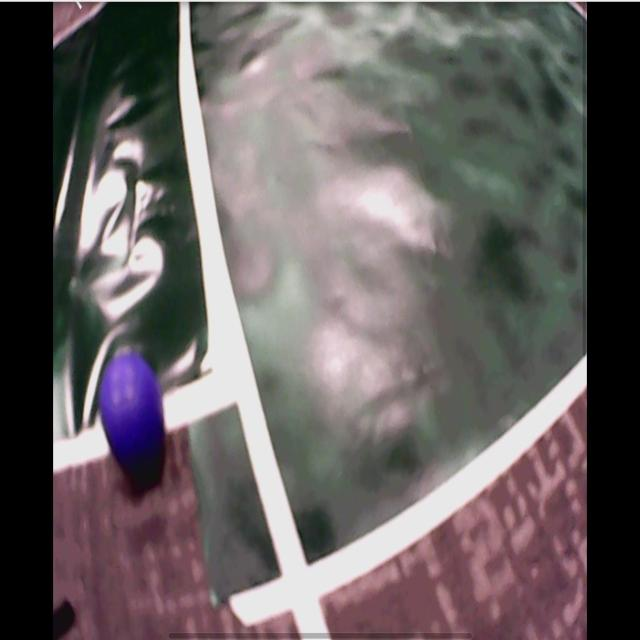ball: (98, 352, 165, 461)
